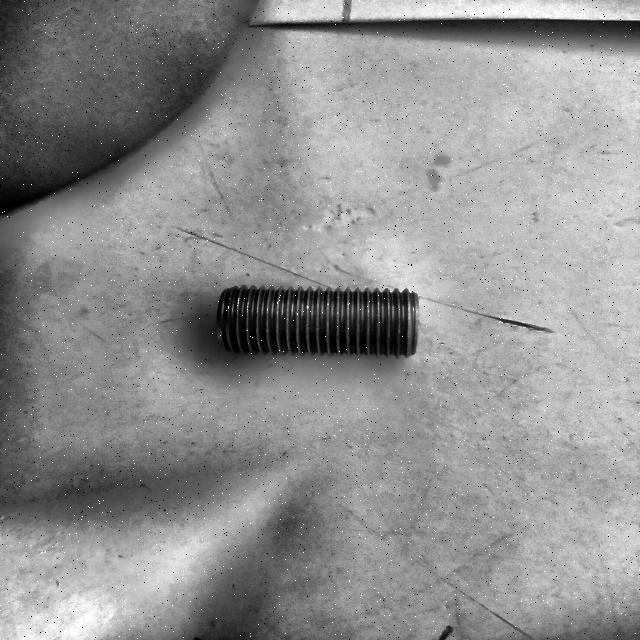Normal: (214, 283, 421, 363)
